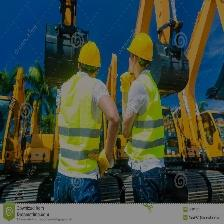Person: (50, 42, 122, 205), (120, 34, 171, 202)
helmet: (126, 31, 155, 63), (77, 44, 106, 69)
vest: (59, 78, 101, 174), (131, 78, 163, 162)
